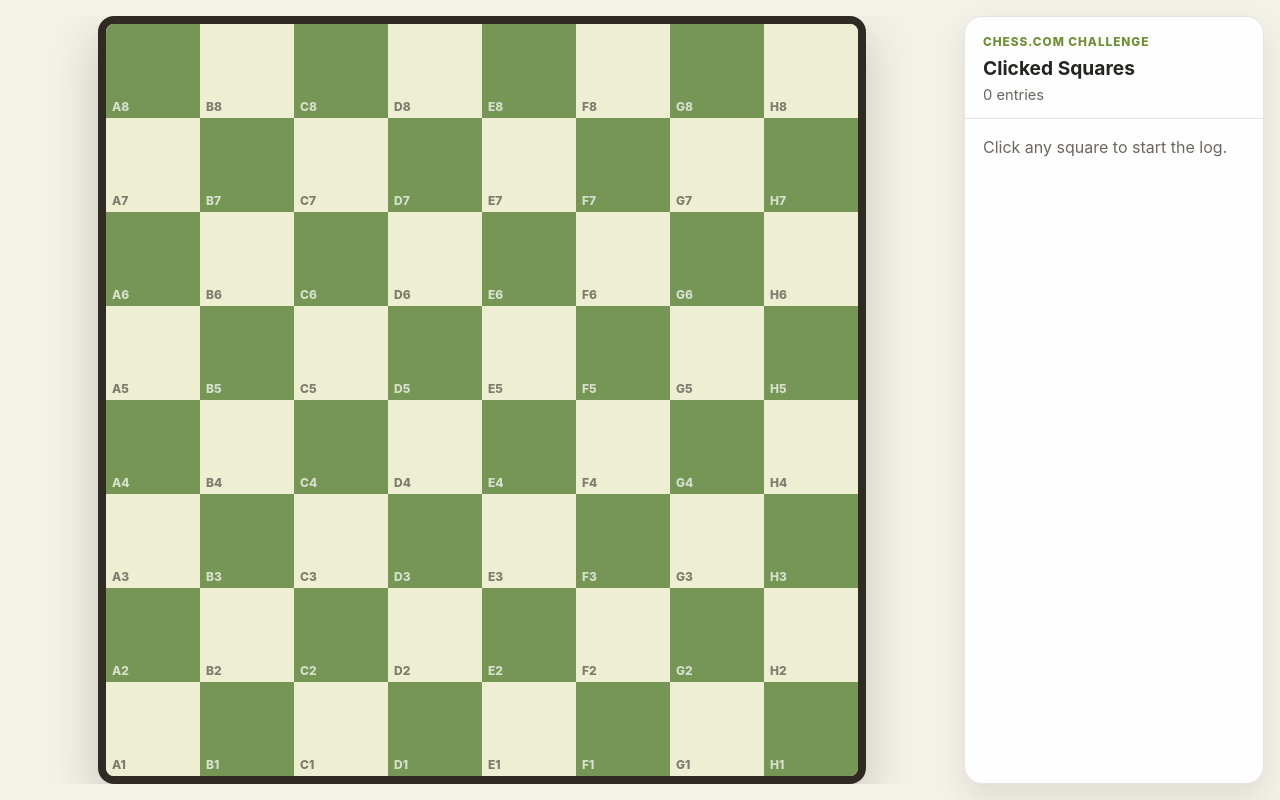
Scenario: ChessBoard › adds a new log entry when a square is highlighted again
The image size is (1280, 800).
Click the cell named "Square e4" at coordinates (529, 447), box [482,400,576,494]
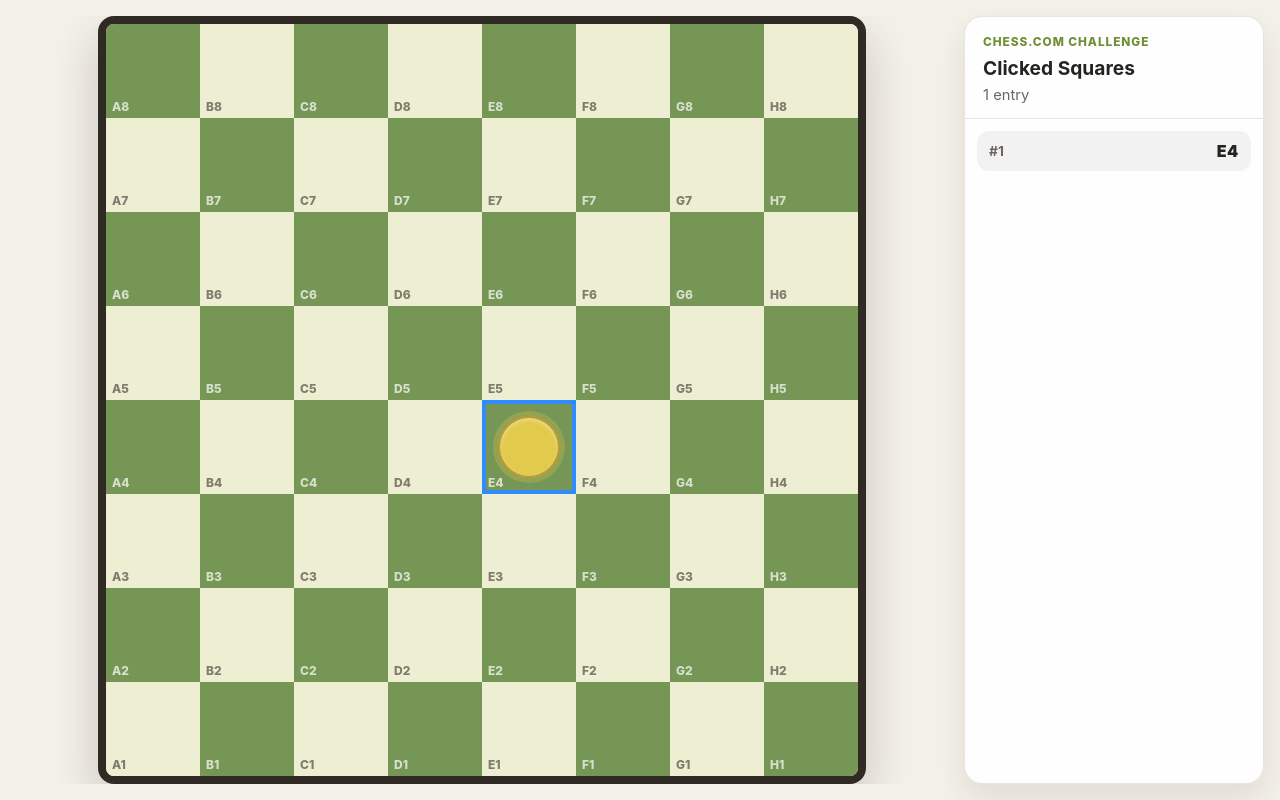
Click the cell named "Square e4" at coordinates (529, 447), box [482,400,576,494]
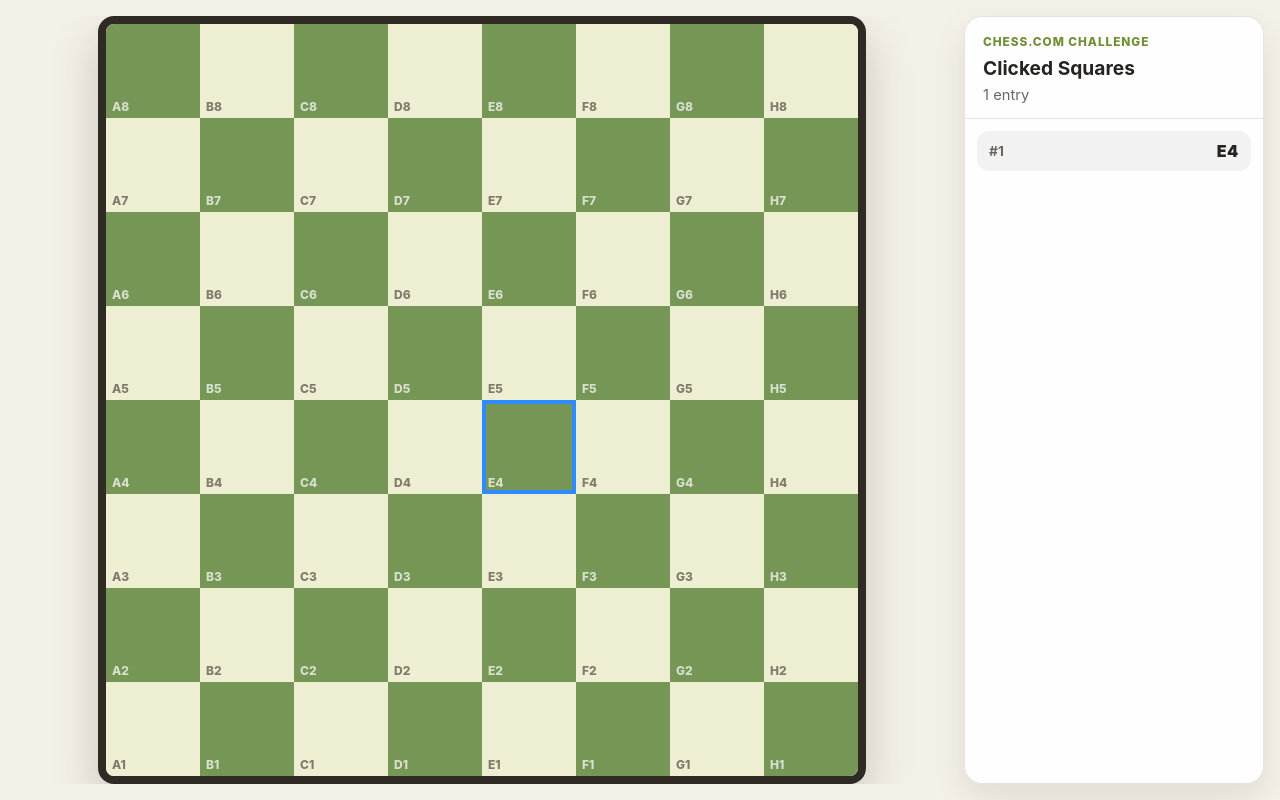
Click the cell named "Square e4" at coordinates (529, 447), box [482,400,576,494]
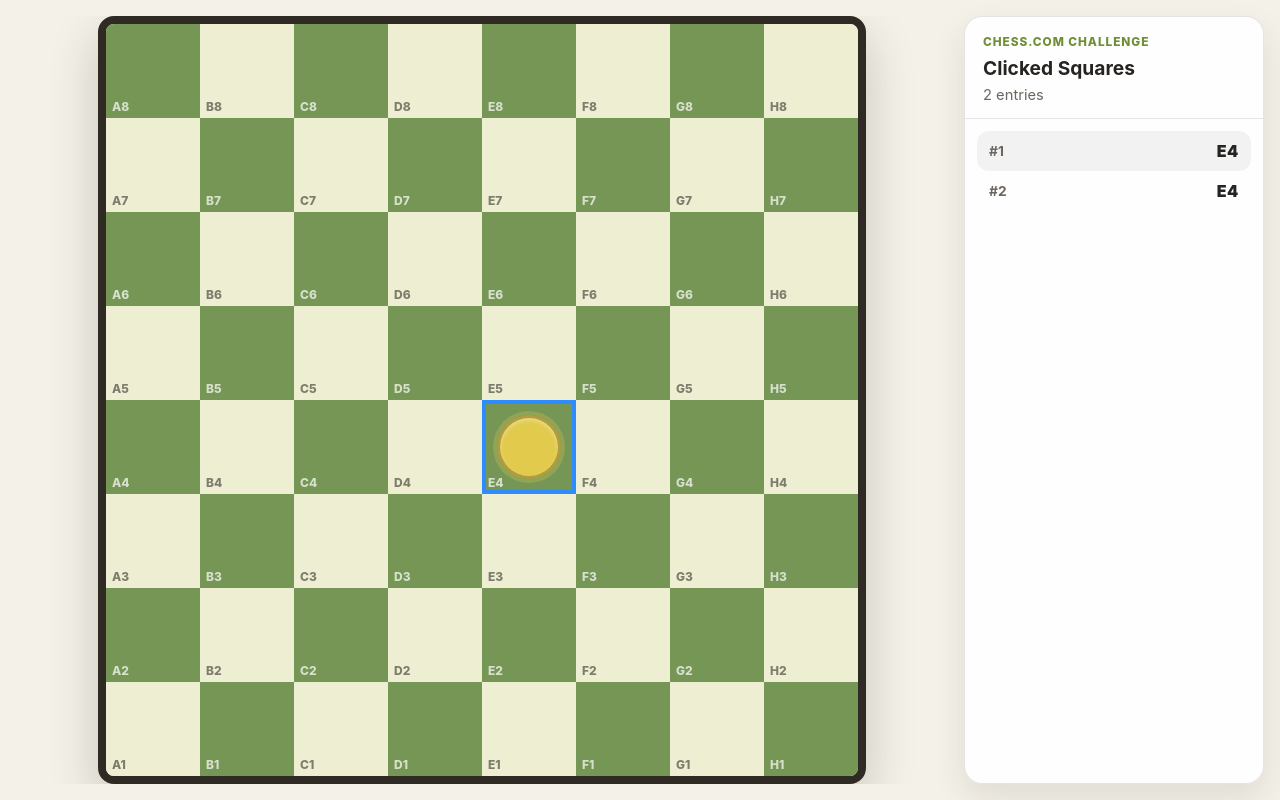
expect the number of list items is 2: met, box [977,131,1251,171]; [989,181,1239,201]
expect the text "2 entries" is shown: met, box [983,86,1044,104]
